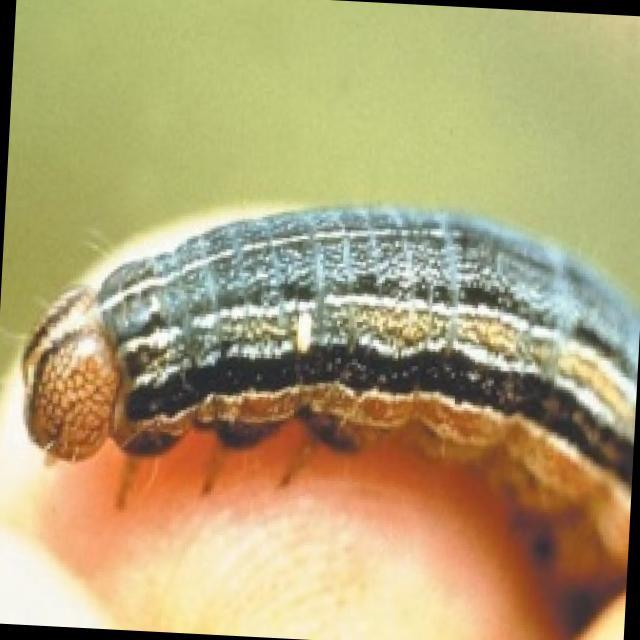Plaga: (1, 162, 640, 549)
